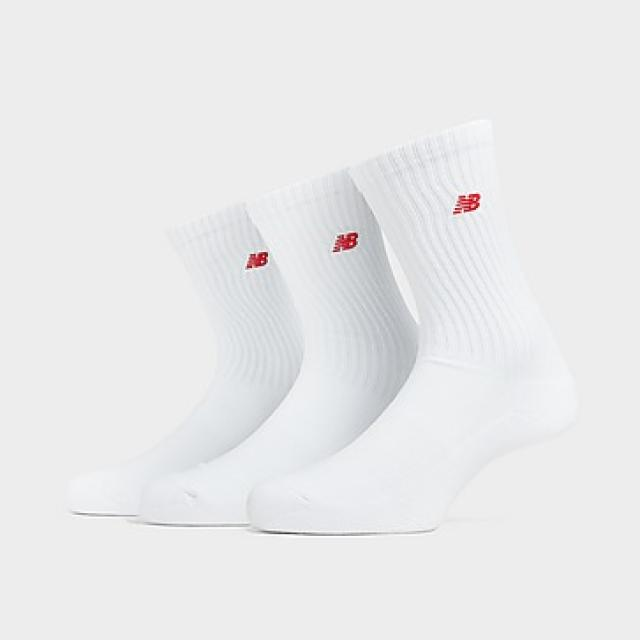sock: (245, 118, 577, 534), (134, 162, 420, 527), (67, 198, 303, 516)
